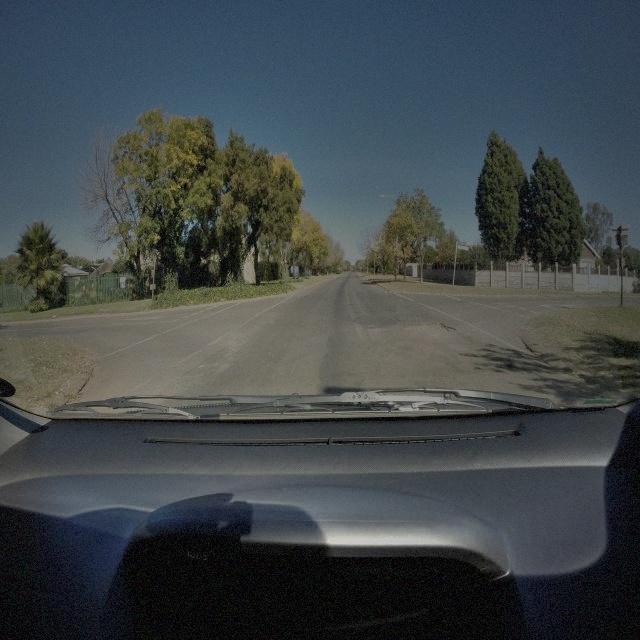pothole: (403, 319, 457, 335)
